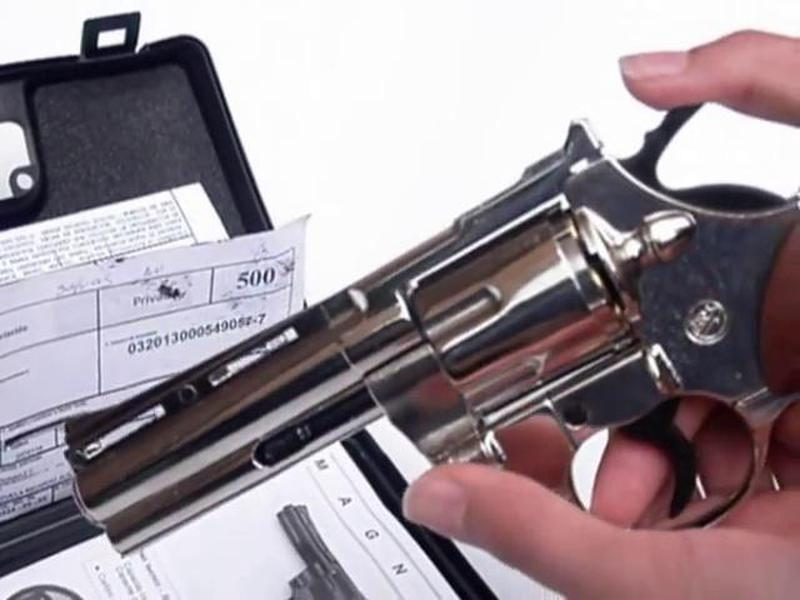Revolver: (47, 108, 800, 524)
